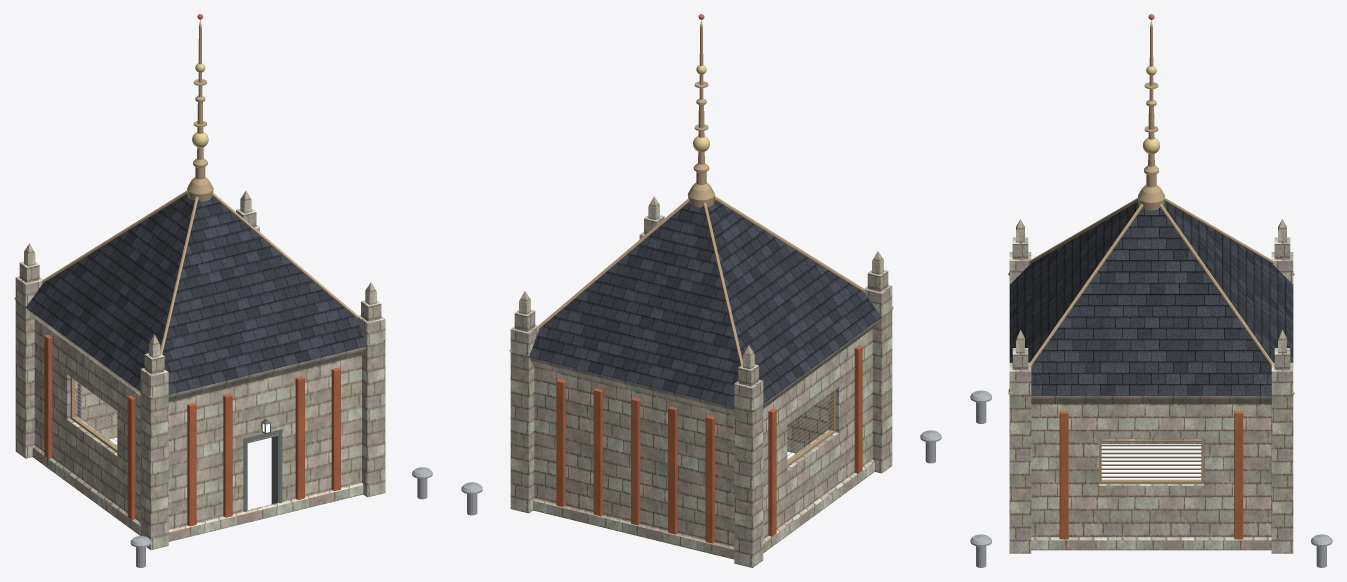
File: crown_top.glb
3 views of the same model, side by side, from view 1: azimuth 30°, elevation 25°; view 2: azimuth 150°, elevation 25°; view 3: azimuth 270°, elevation 25° (orthographic). The views are drawn at different scales.
Visible parts, largest first — view 1: crown_top_stone, crown_top_roof_d, crown_top_terra, crown_top_bronze, crown_top_frame, crown_top_metal; view 2: crown_top_stone, crown_top_roof_d, crown_top_terra, crown_top_bronze, crown_top_metal; view 3: crown_top_roof_d, crown_top_stone, crown_top_bronze, crown_top_terra, crown_top_metal.
Boxes of the visible parts, x1,y1,x2,y2 form: crown_top_stone: (15,190,385,549); crown_top_roof_d: (26,193,367,394); crown_top_terra: (44,334,340,526); crown_top_bronze: (14,19,386,452); crown_top_frame: (243,429,282,511); crown_top_metal: (80,385,432,567); crown_top_stone: (510,196,892,567); crown_top_roof_d: (529,200,881,411); crown_top_terra: (556,345,862,543); crown_top_bronze: (509,20,893,467); crown_top_metal: (461,430,941,515); crown_top_roof_d: (1009,201,1293,395); crown_top_stone: (1009,219,1293,553); crown_top_bronze: (1008,20,1294,483); crown_top_terra: (1059,411,1243,539); crown_top_metal: (970,390,1332,567).
Size of the model in its own units: 8.3 by 12.12 by 8.3.
14 materials, 3 textured.
